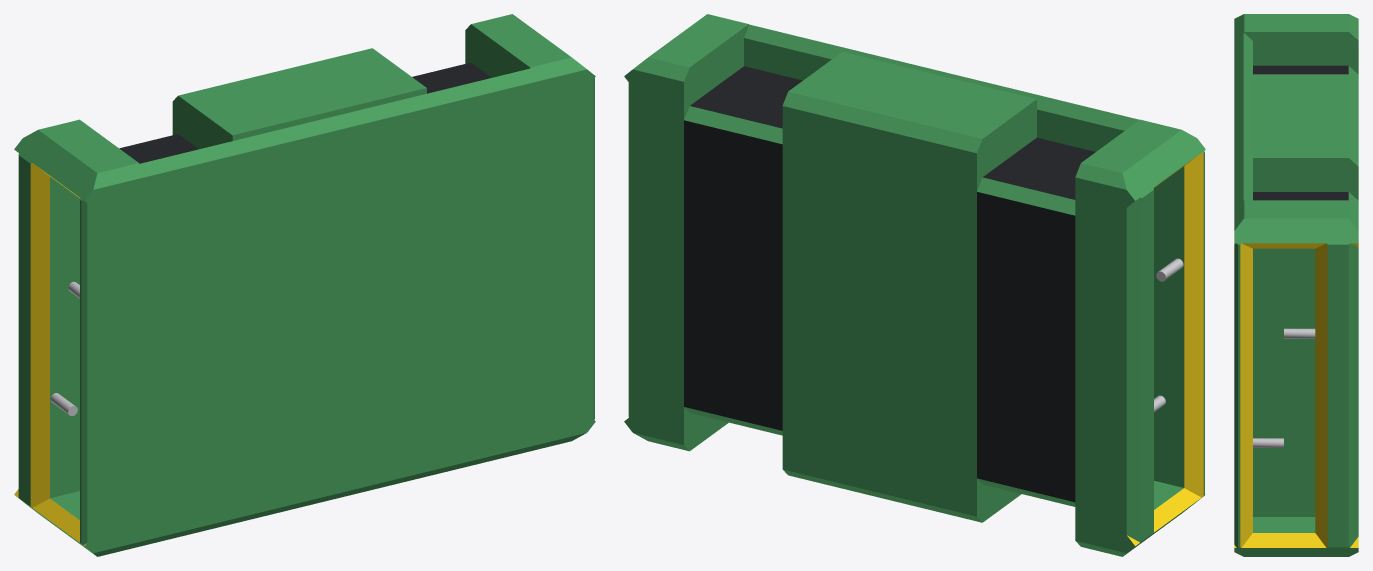
File: chassis_body.obj
3 renders of one model, left to right at view 1: azimuth 30°, elevation 25°; view 2: azimuth 150°, elevation 25°; view 3: azimuth 270°, elevation 25°, orthographic. The views are drawn at different scales.
Parts seen in each view (by area): view 1: core, dock; view 2: core, dock; view 3: dock, core, pins.
Part boxes in pixels (left/top/right/bottom): core: left=119, top=48, right=535, bottom=546; dock: left=14, top=14, right=595, bottom=556; core: left=684, top=24, right=1139, bottom=522; dock: left=624, top=14, right=1205, bottom=556; dock: left=1234, top=14, right=1358, bottom=556; core: left=1234, top=32, right=1358, bottom=208; pins: left=1253, top=328, right=1315, bottom=447.
Bounding box in the file's own units: 0.42 × 0.3 × 0.1.
